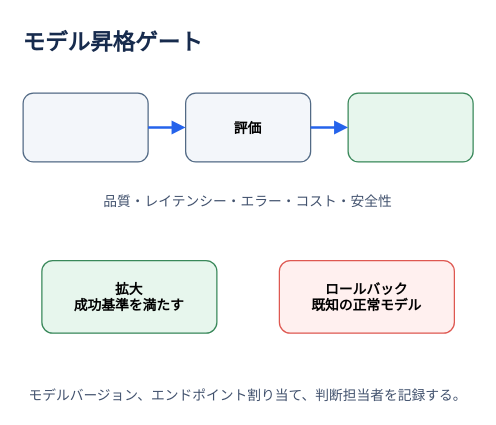
This 496x425 diagram has some shape labels left out. The centre of each missing label's shape, as x and y in pixels:
"候補" goes at (x=85, y=127).
"限定トラフィック" goes at (x=410, y=127).
